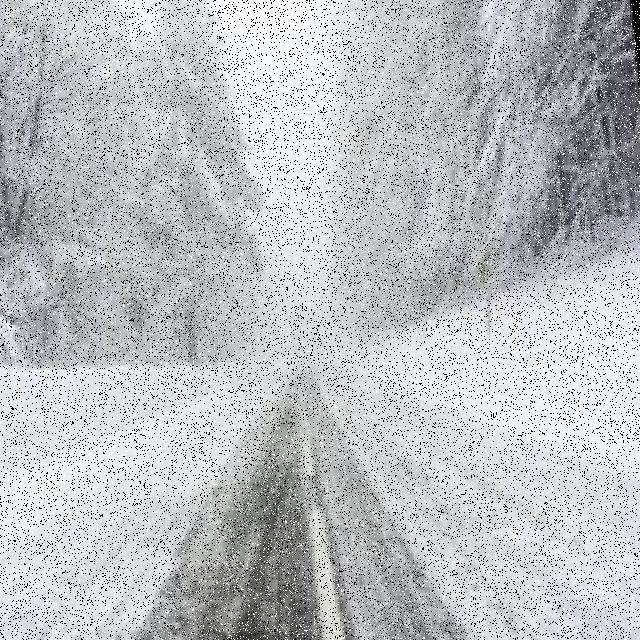ice-road: (0, 356, 640, 640)
